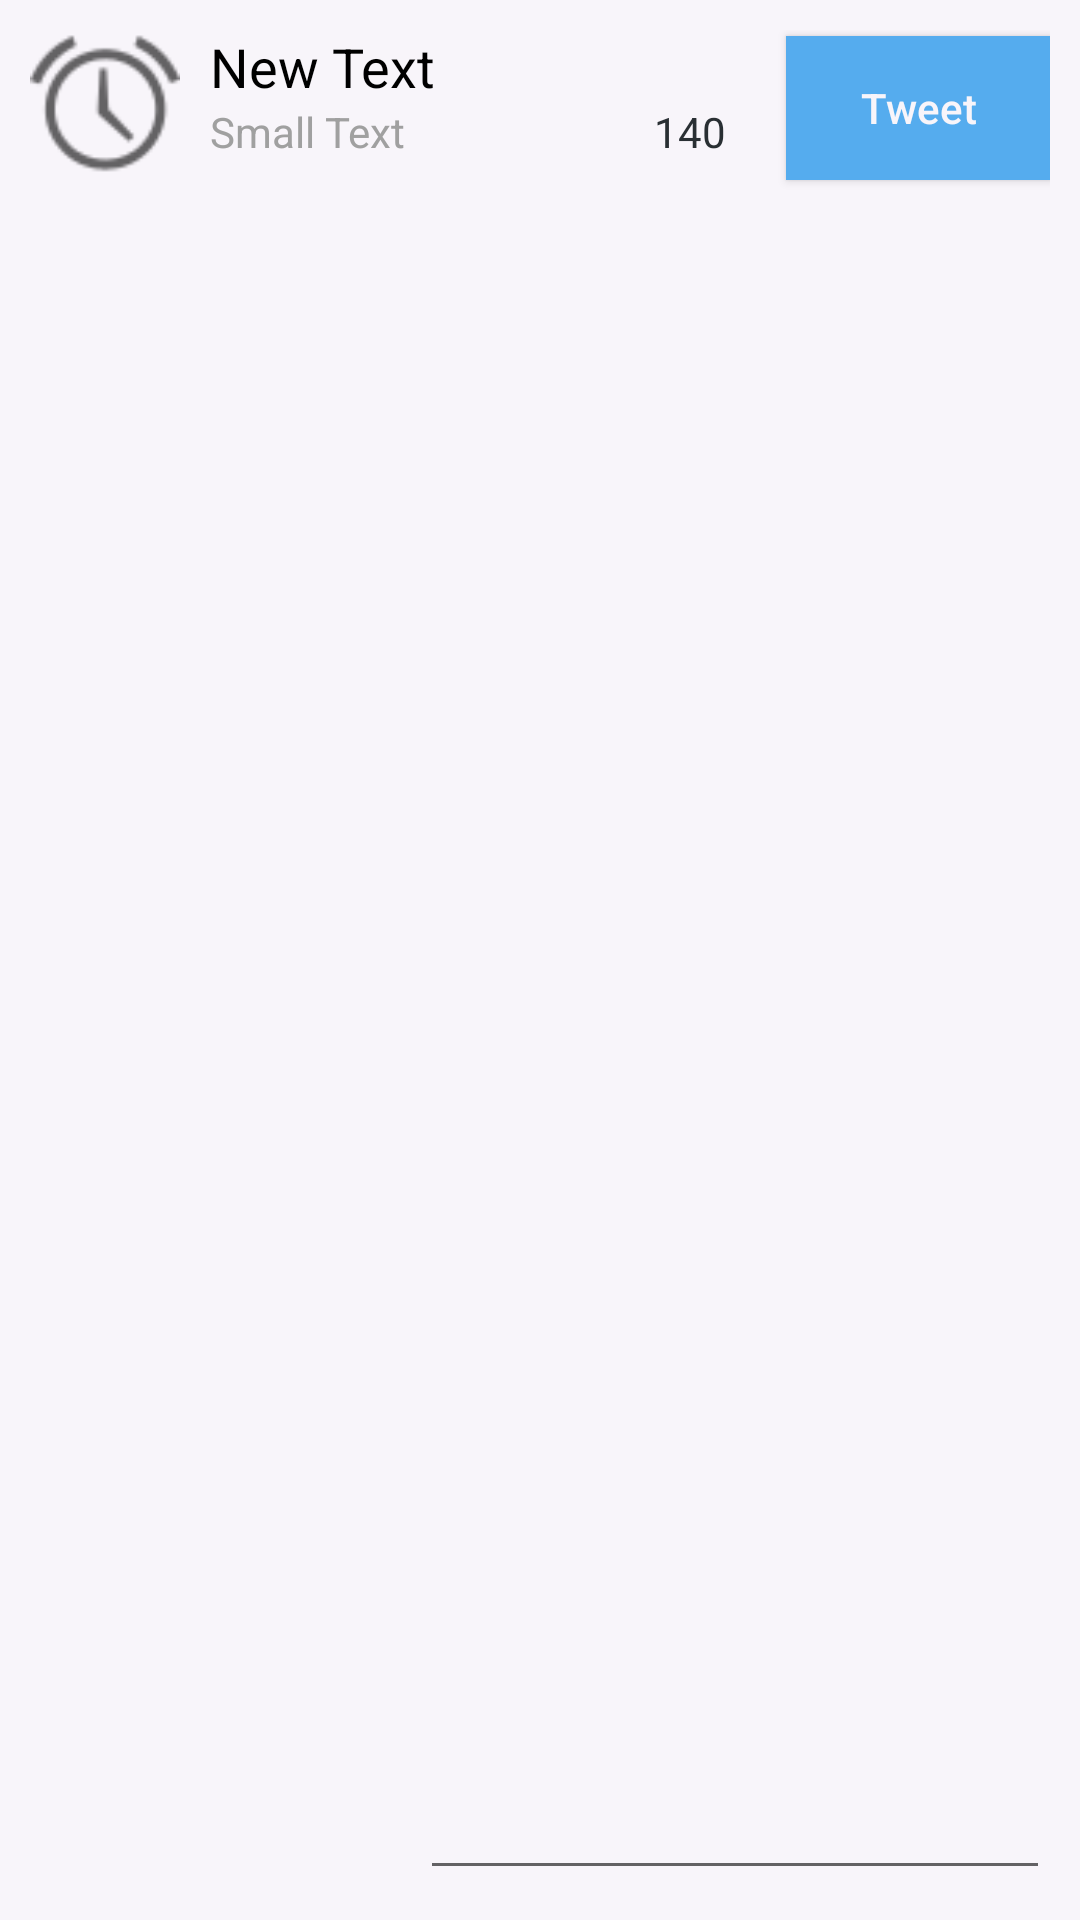

Where to tap for icons on this 1080x1920 app screen, as [x,y]:
lock idle alarm: [105,103]
